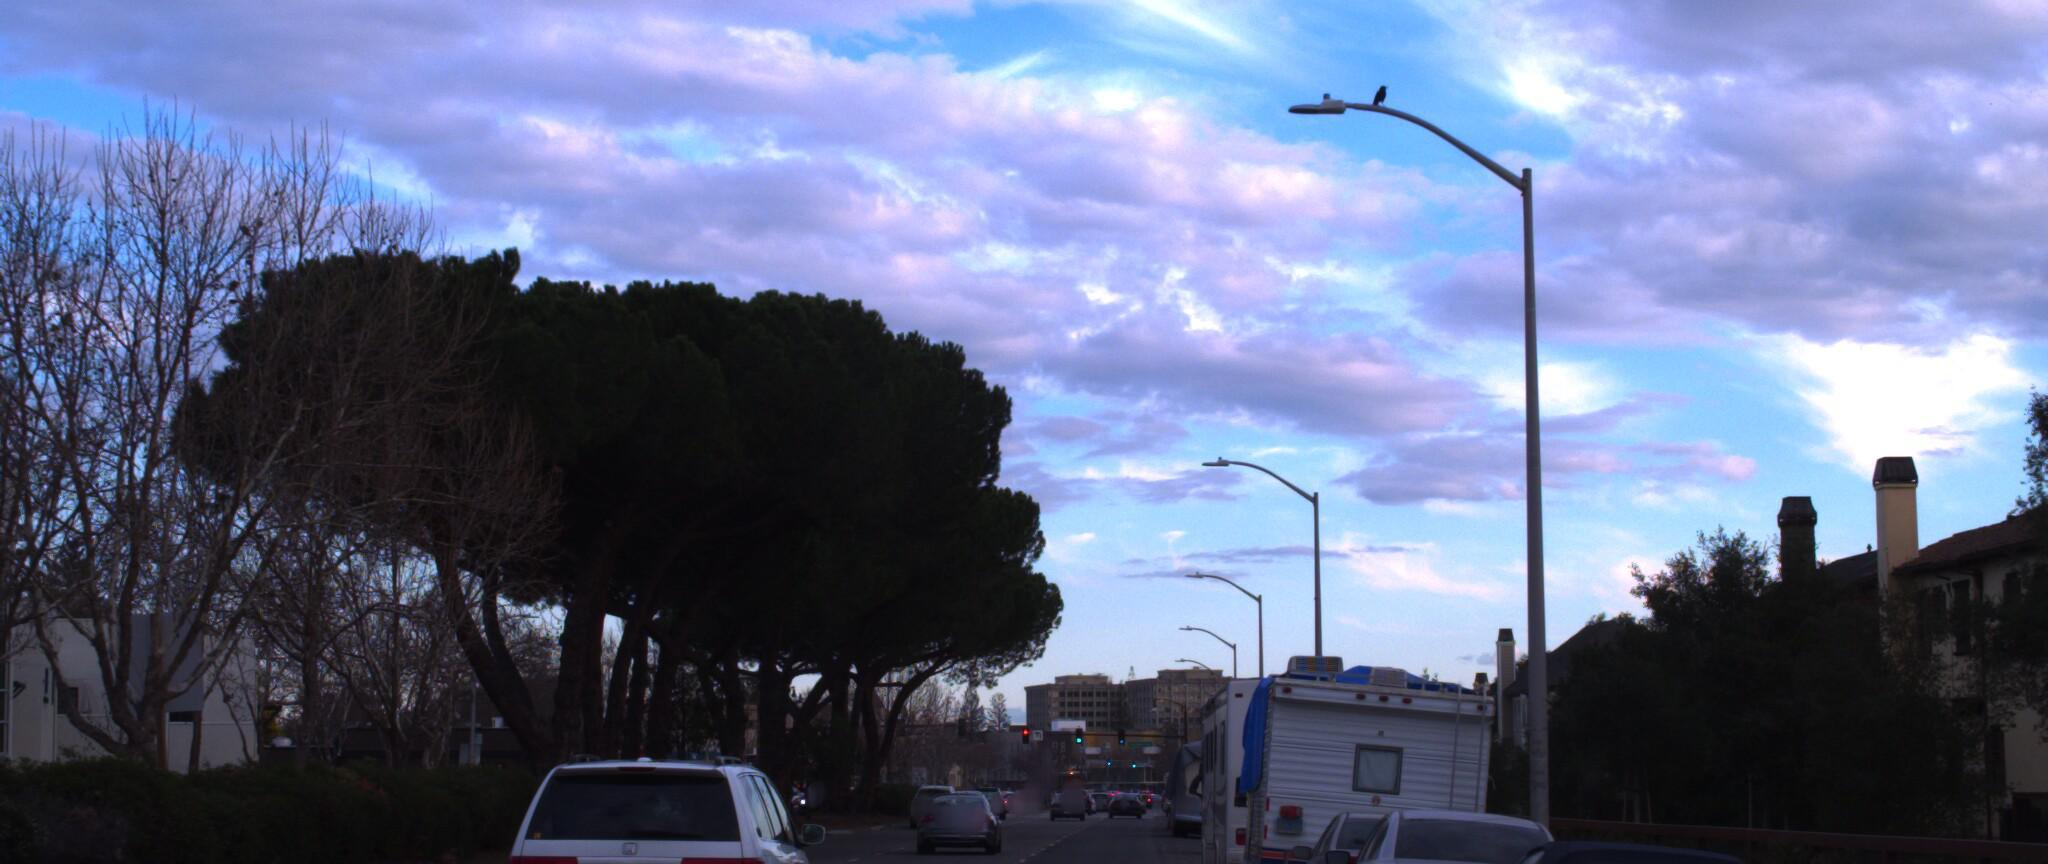bus: (1186, 620, 1421, 864)
car: (475, 743, 841, 864), (1313, 779, 1599, 864), (1422, 809, 1834, 864), (1277, 780, 1499, 864), (903, 765, 1004, 842)
other_vehicle: (1224, 647, 1509, 864)
